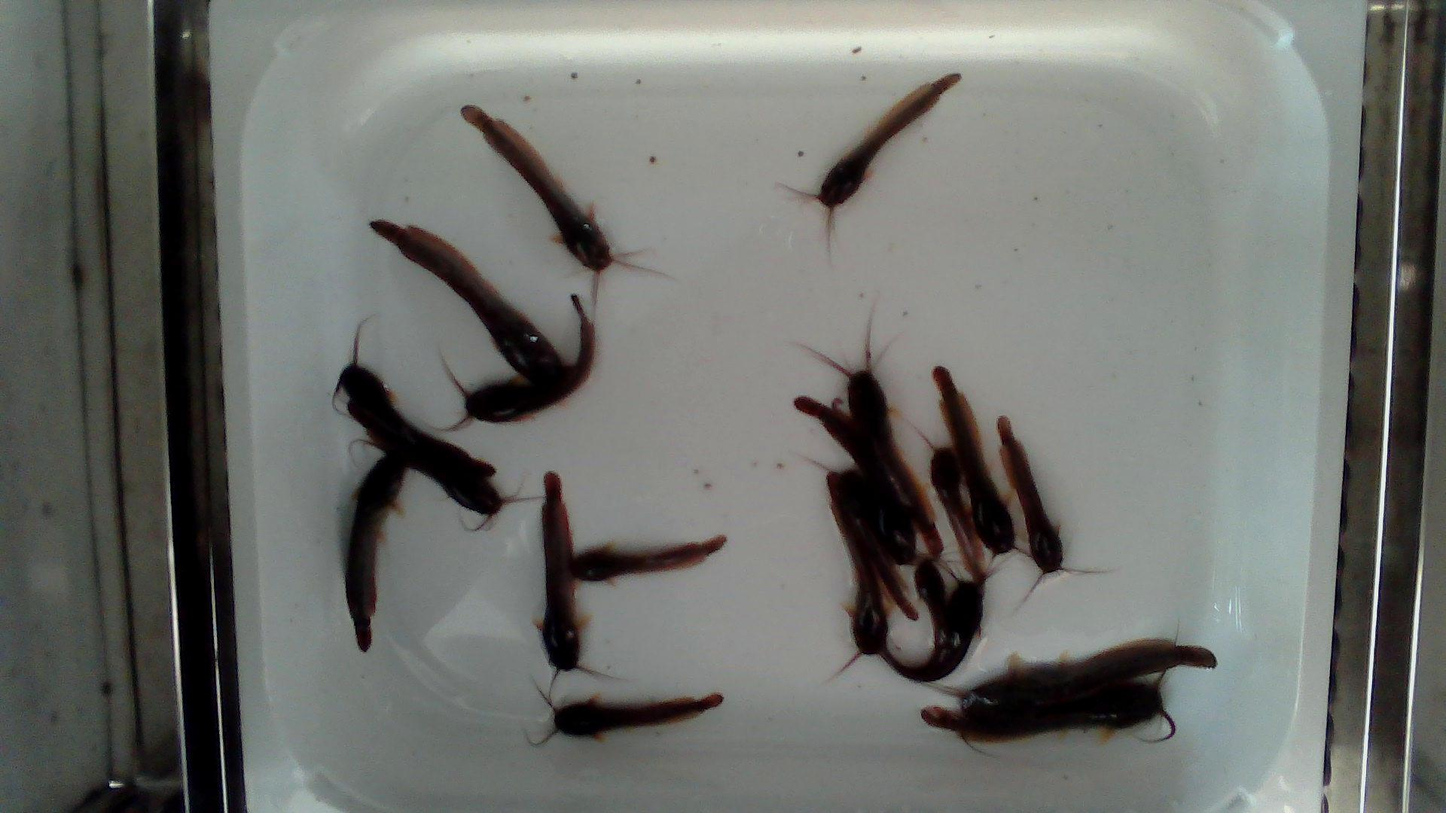lele: (801, 322, 947, 558), (373, 221, 563, 381), (461, 106, 614, 270), (796, 399, 917, 563), (816, 75, 959, 209), (340, 361, 500, 476), (966, 644, 1219, 713), (465, 303, 596, 422), (934, 367, 1014, 553), (928, 686, 1165, 741), (346, 454, 407, 651), (366, 428, 501, 514), (841, 473, 919, 620), (828, 476, 888, 654), (999, 418, 1062, 571), (888, 579, 981, 682), (539, 472, 580, 670), (929, 451, 989, 582), (569, 535, 726, 581), (554, 693, 723, 735), (918, 558, 947, 647)
